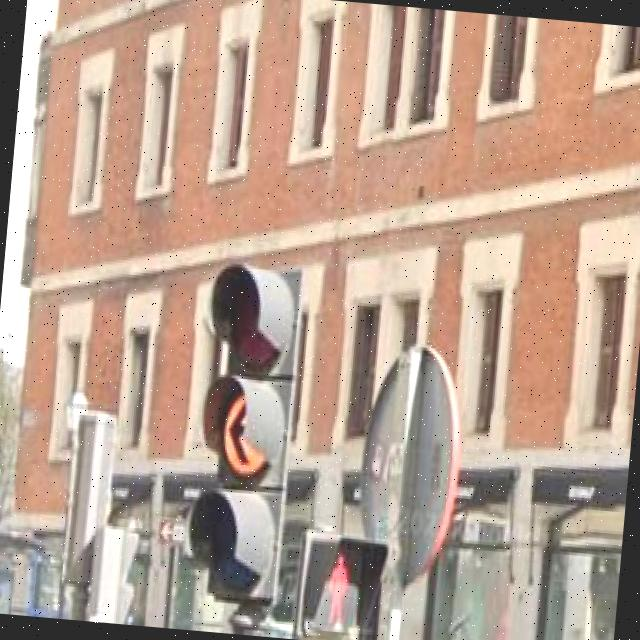yellow_light: (204, 273, 286, 596)
